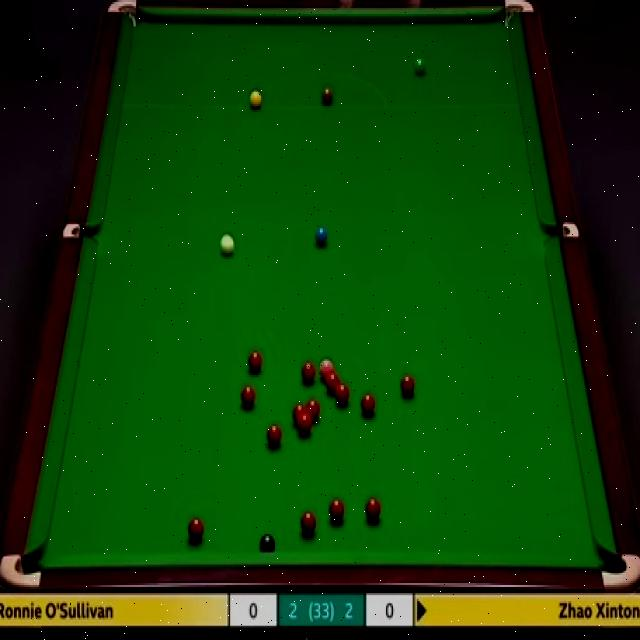black-ball: (259, 534, 276, 553)
blue-ball: (313, 222, 328, 248)
brown-ball: (321, 87, 333, 105)
green-ball: (412, 57, 427, 77)
pink-ball: (320, 359, 334, 382)
red-ball: (398, 369, 416, 398), (188, 516, 205, 542), (365, 496, 381, 523), (328, 498, 344, 524), (301, 511, 317, 536), (241, 385, 257, 410), (360, 392, 375, 418), (266, 424, 282, 448), (306, 400, 321, 424), (325, 372, 341, 394), (336, 383, 349, 407), (249, 351, 262, 374), (298, 416, 312, 436), (293, 403, 306, 424), (302, 364, 315, 383)
white-ball: (219, 230, 235, 258)
yellow-ball: (248, 89, 262, 109)
